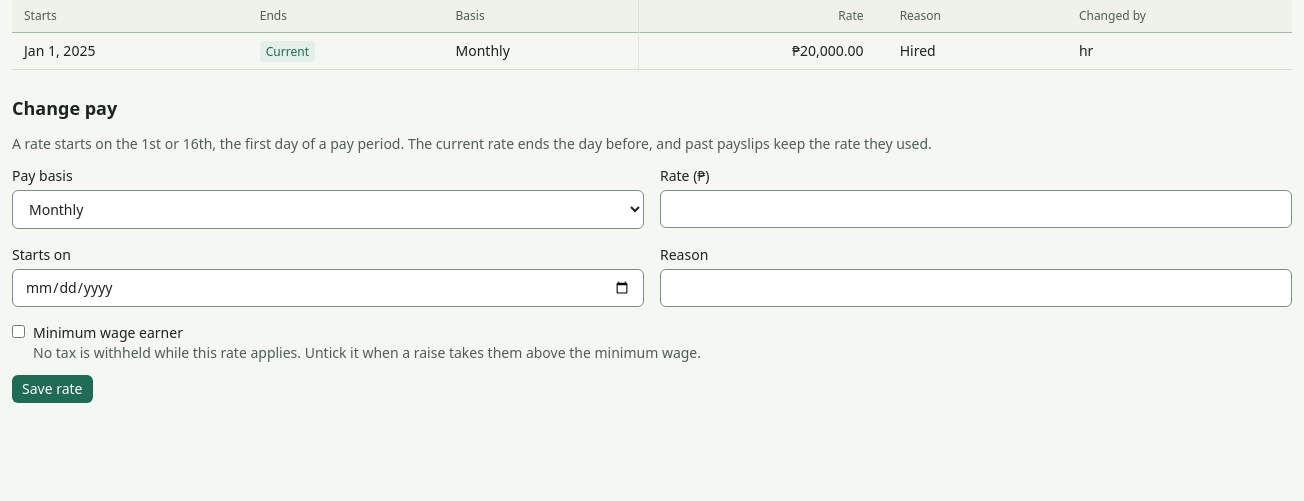
Test: CompensationTab › adds a raise and shows the closed previous rate
The width and height of the screenshot is (1304, 501).
Check: the text "₱20,000.00" is shown, box [638,32,876,70]
Type "26,000" into the field labelled "Rate (₱)" at x=976, y=209, box [660,190,1292,228]
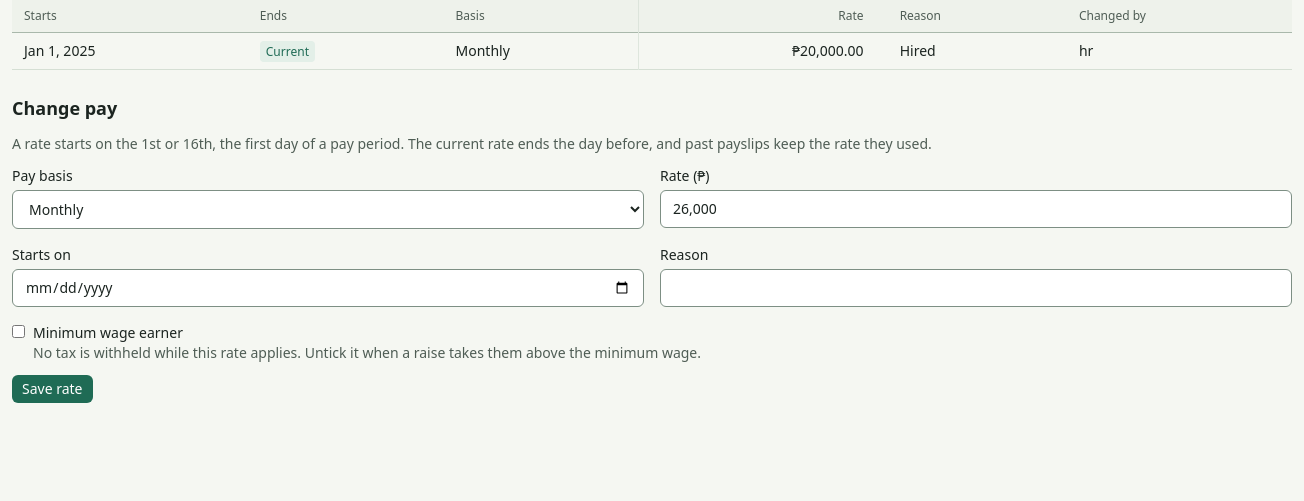
Type "2026-03-01" into the date field labelled "Starts on" at x=328, y=288, box [12,269,644,307]
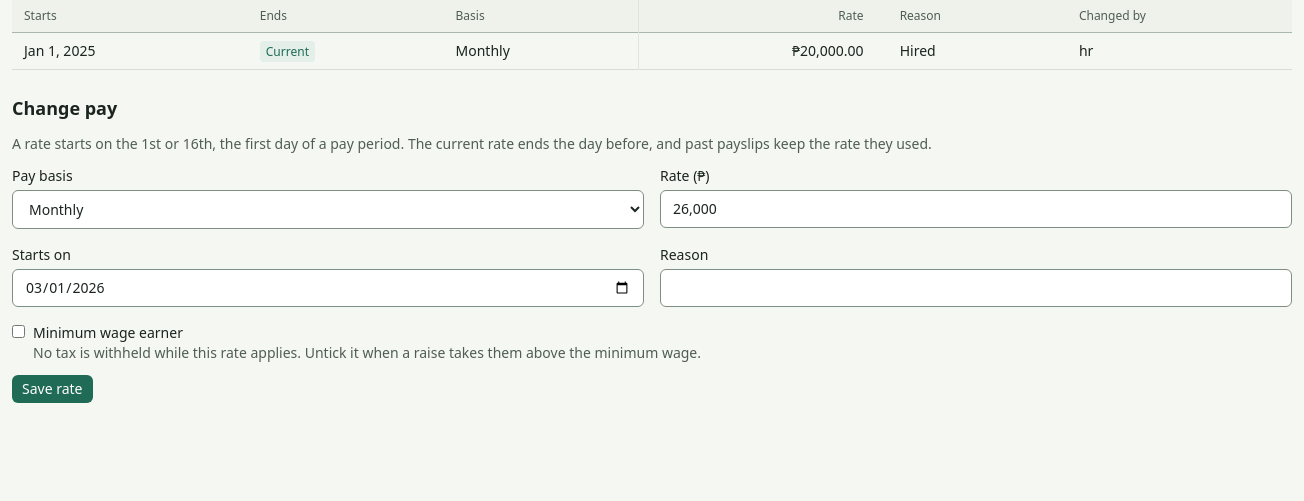
Type "Annual review" into the field labelled "Reason" at x=976, y=288, box [660,269,1292,307]
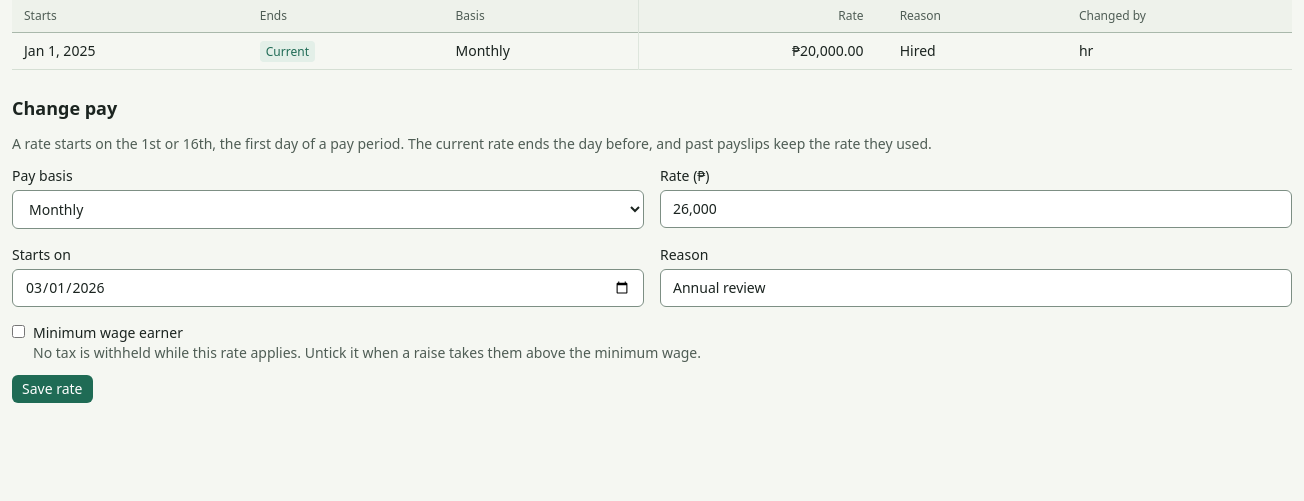
Click the button "Save rate" at x=52, y=389, box [12,375,92,403]
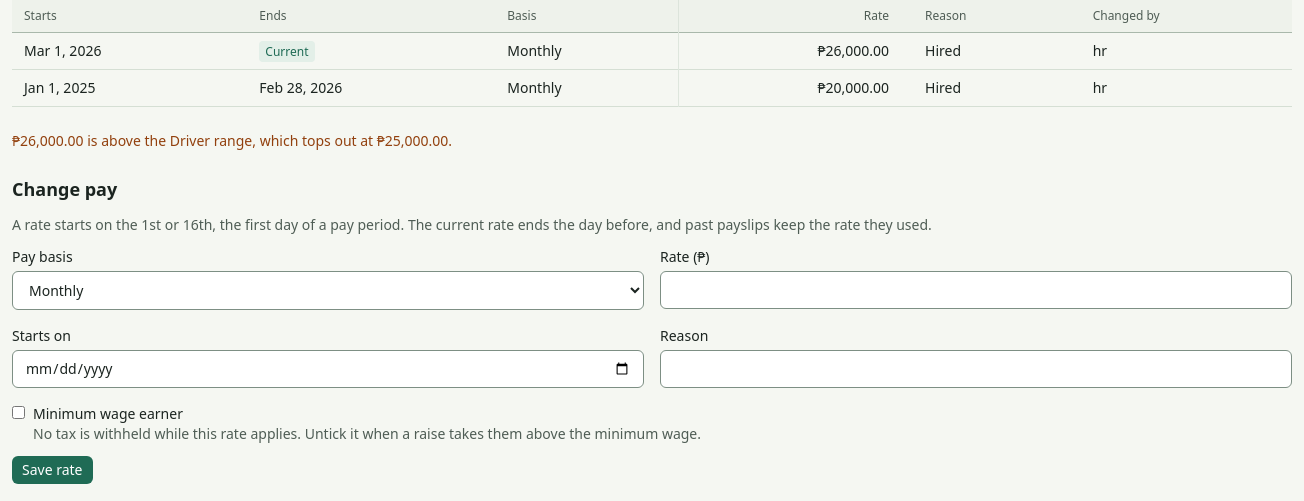
Check: the text "₱26,000.00" is shown, box [678,32,901,70]
Check: the text "Feb 28, 2026" is shown, box [247,70,495,106]
Check: the text "above the Driver range" is shown, box [12,131,452,150]
